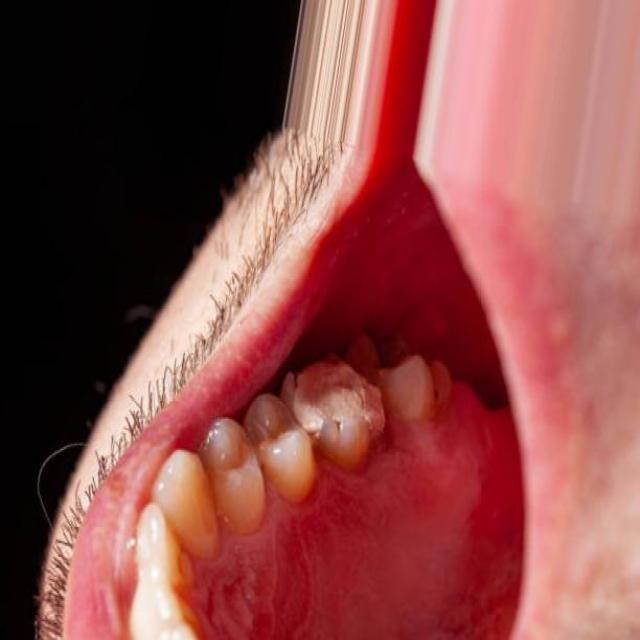caries: (295, 360, 383, 426)
